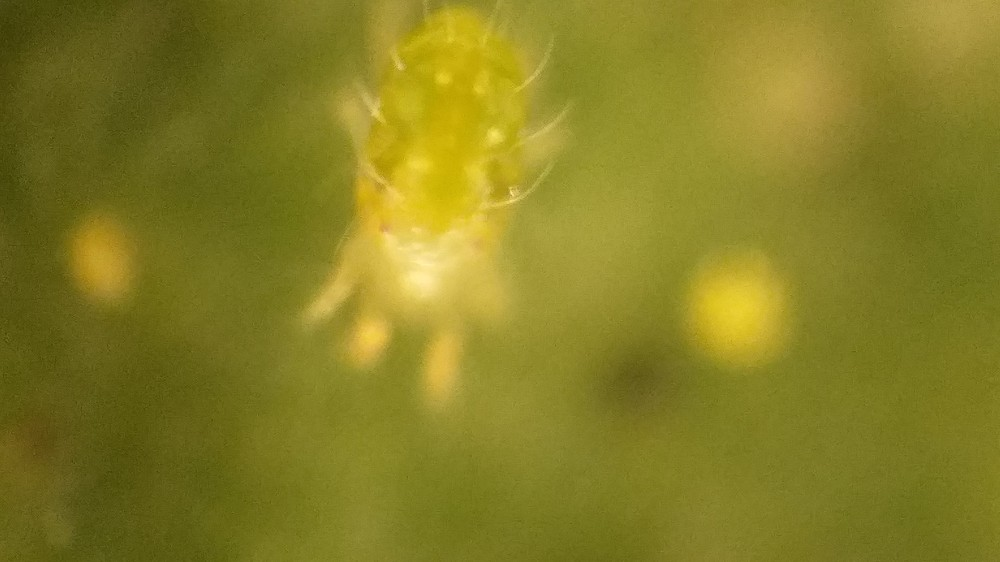Aracnido Rojo: (299, 1, 587, 403)
